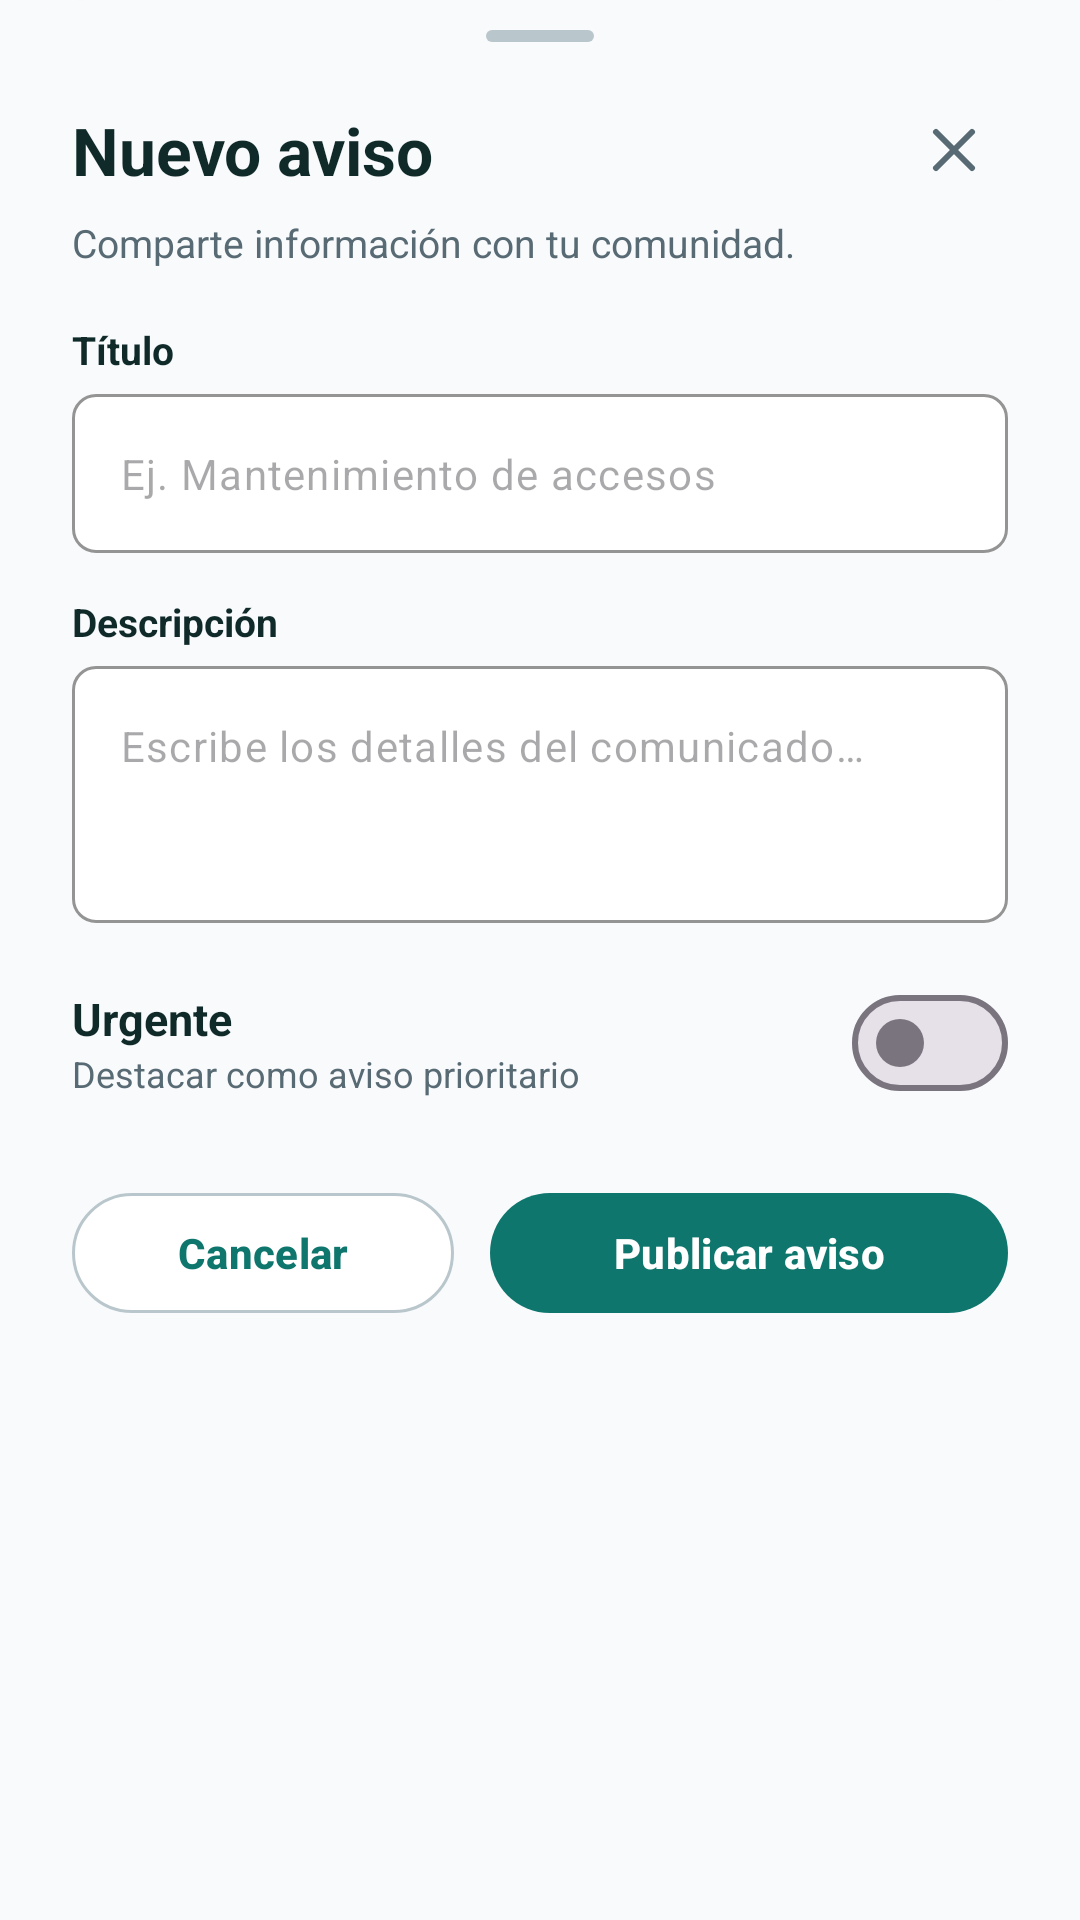

Where to tap for icons on this 1080 x 1920 app screen, as point (x, y):
Cancelar: point (954, 150)
